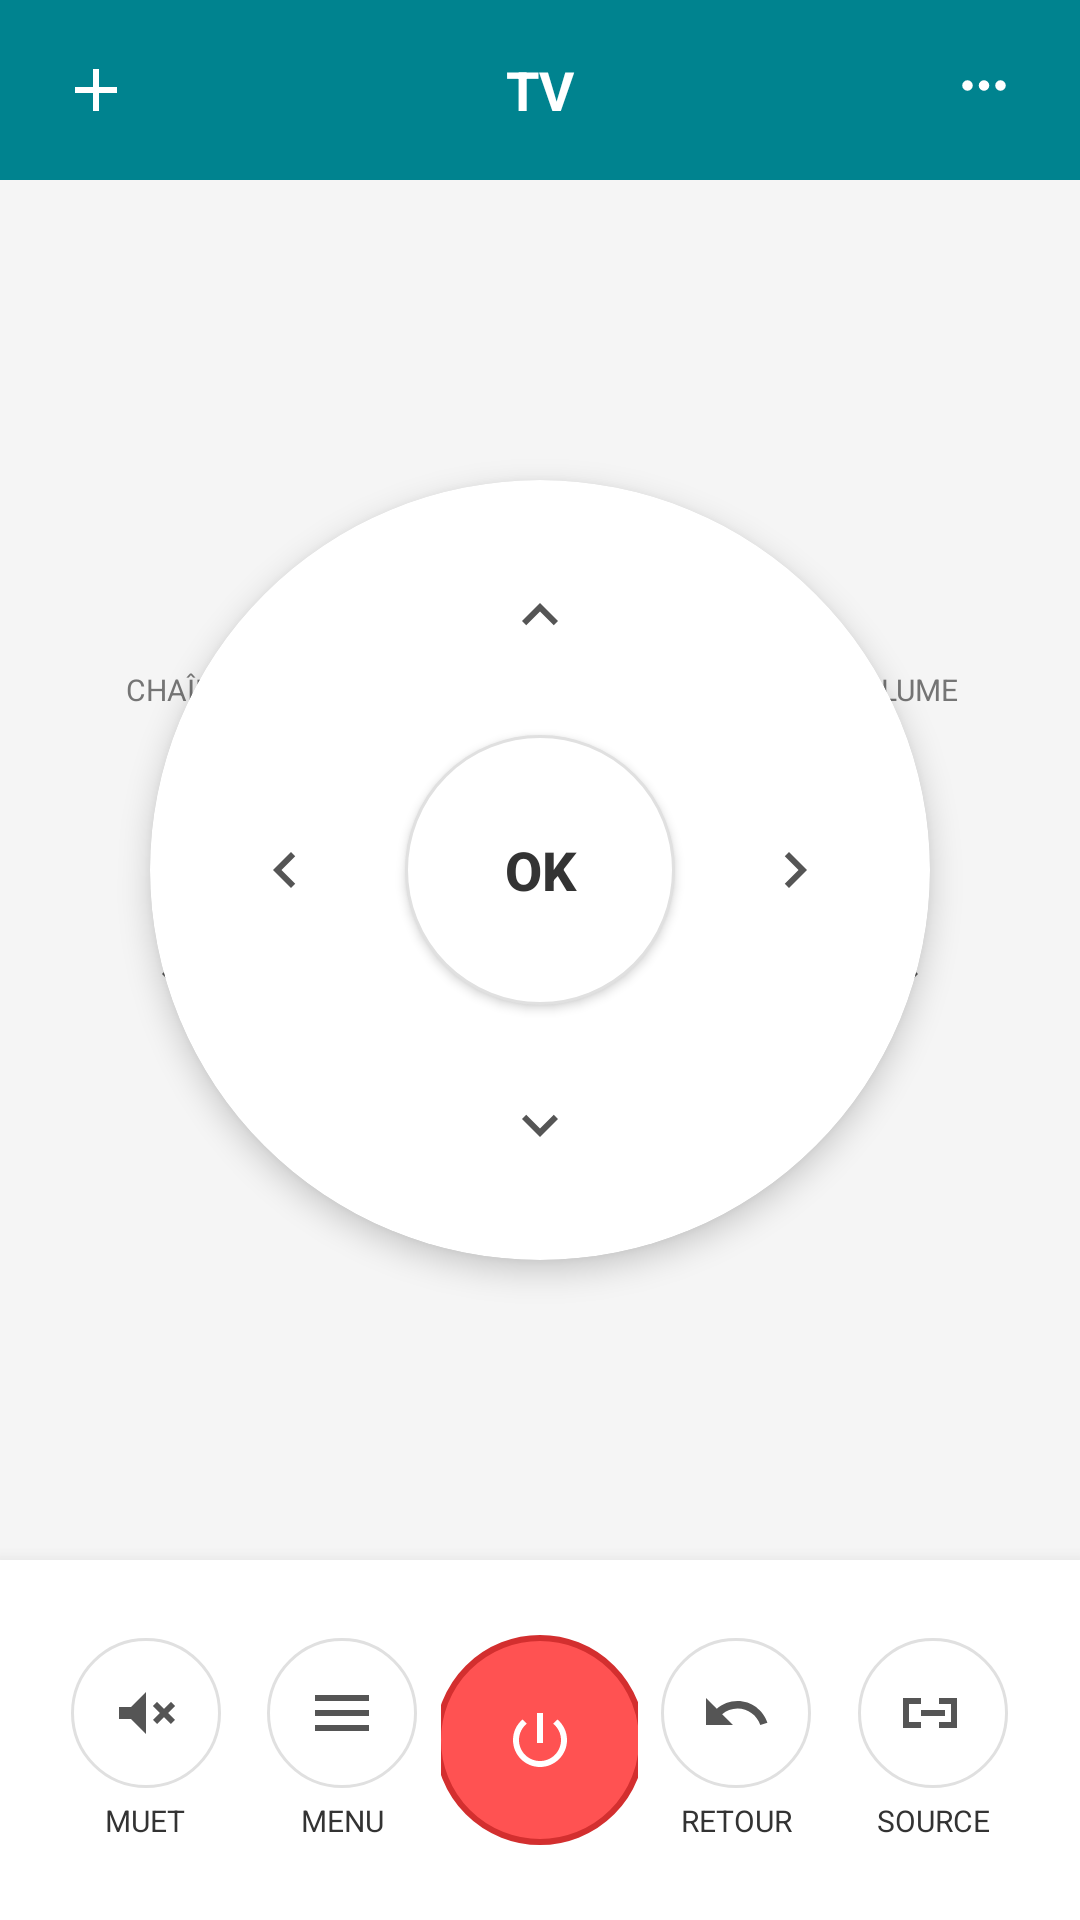

Icon click points for this 1080w x 1920h phone screenshot, format (x=x, y=y):
add: (x=96, y=90)
bars: (x=342, y=1713)
chevron left: (x=284, y=870)
chevron right: (x=796, y=870)
chevron up: (x=540, y=614)
more dots: (x=984, y=85)
power: (x=539, y=1740)
